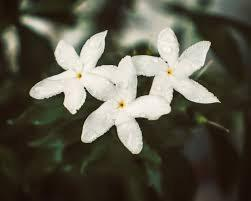jasmine: (36, 25, 218, 133)
